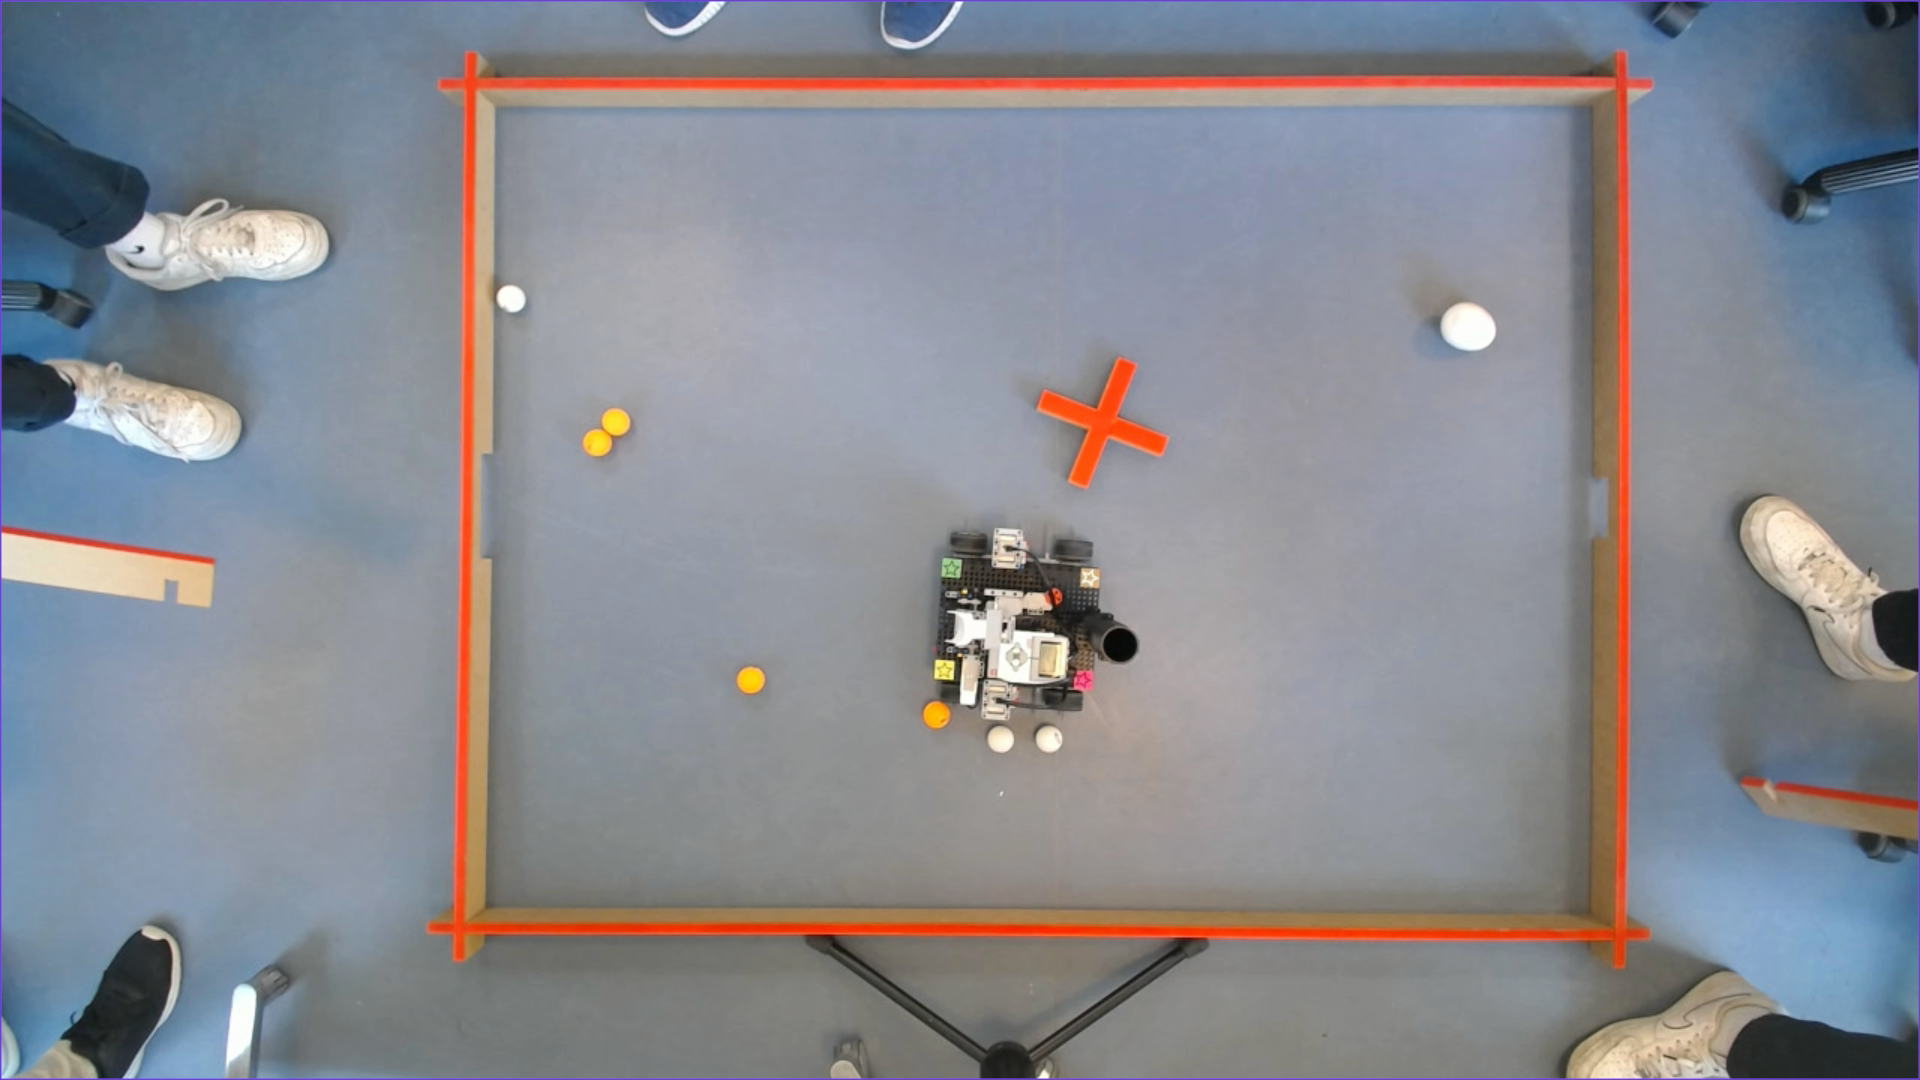ball_orange: (918, 698, 953, 732), (731, 661, 765, 695), (600, 400, 632, 436), (582, 430, 612, 462)
ball_white: (1033, 723, 1063, 758), (984, 723, 1015, 756), (495, 284, 525, 315)
corner_brown: (1077, 564, 1102, 589)
corner_green: (942, 559, 960, 578)
corner_pink: (1072, 669, 1093, 690)
corner_yellow: (931, 658, 955, 682)
cross: (1036, 356, 1170, 491)
egg: (1439, 299, 1499, 356)
playfield: (451, 75, 1627, 945)
